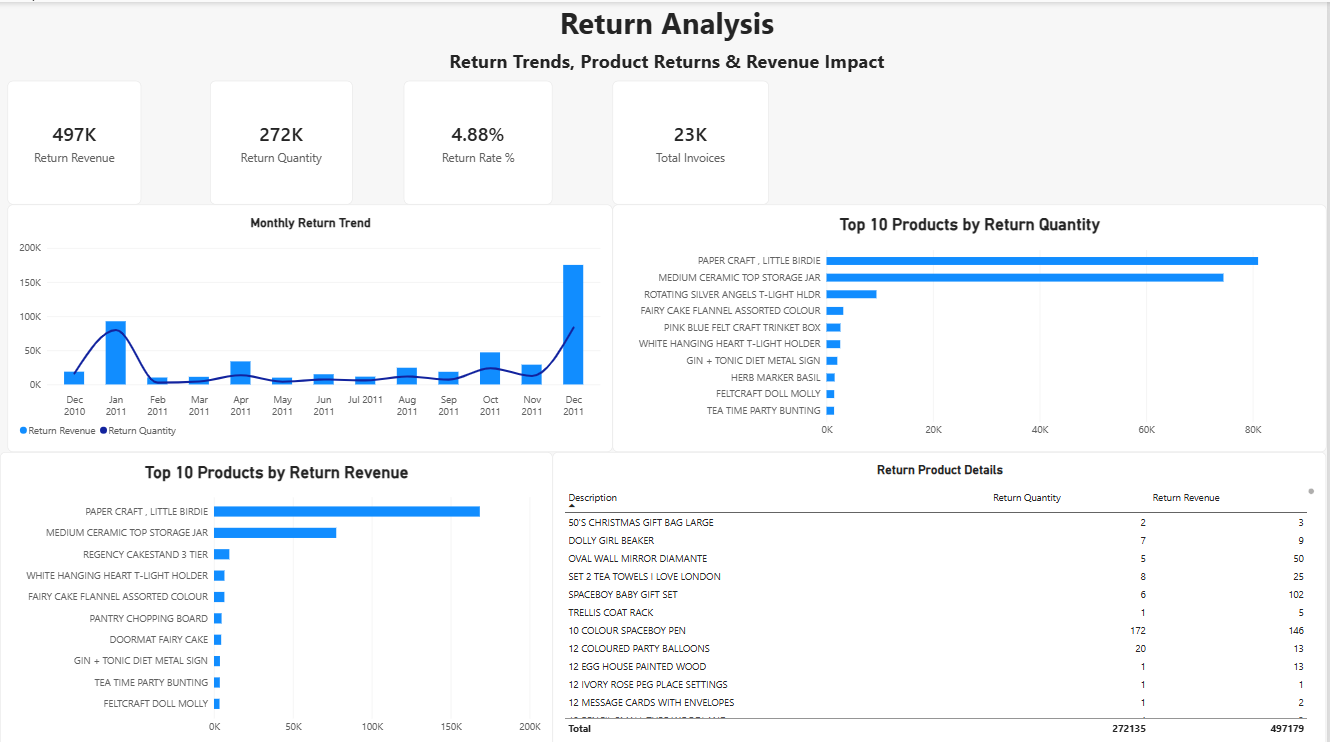

What the dashboard file says about the page in this screenshot:
{"tool":"powerbi","page":{"name":"Return Analysis","canvas":[1920,1080],"ordinal":4},"visuals":[{"type":"textbox","box":[10.9,0,1909.2,67],"z":0},{"type":"textbox","box":[10.9,67,1909.2,47.1],"z":1},{"type":"card","fields":{"Values":["sales_clean.Return Revenue"]},"box":[10.9,114,193.6,179.2],"z":2},{"type":"card","fields":{"Values":["sales_clean.Return Quantity"]},"box":[304,114,206.3,179.2],"z":3},{"type":"card","fields":{"Values":["sales_clean.Return Rate %"]},"box":[584.5,114,215.3,179.2],"z":4},{"type":"card","fields":{"Values":["sales_clean.Total Invoices"]},"box":[886.7,114,226.2,179.2],"z":5},{"type":"lineClusteredColumnComboChart","title":"Monthly Return Trend","fields":{"Category":["Date Table.Month Year"],"Y":["sales_clean.Return Revenue"],"Y2":["sales_clean.Return Quantity"]},"box":[10.9,293.2,875.9,358.3],"z":6},{"type":"clusteredBarChart","title":"Top 10 Products by Return Revenue","fields":{"Category":["sales_clean.Description"],"Y":["sales_clean.Return Revenue"]},"box":[0,651.5,799.9,428.9],"z":7},{"type":"clusteredBarChart","title":"Top 10 Products by Return Quantity","fields":{"Category":["sales_clean.Description"],"Y":["sales_clean.Return Quantity"]},"box":[886.7,293.2,1033.3,358.3],"z":8},{"type":"tableEx","title":"Return Product Details","fields":{"Values":["sales_clean.Description","sales_clean.Return Quantity","sales_clean.Return Revenue"]},"box":[799.9,651.5,1120.2,428.9],"z":9}]}

Visuals, with their boxes in screenshot pixels (x1, y1, x2, y2), scaled from the page's 1920x1080 canvas onto the 1330x742 screenshot:
textbox: locate(8, 0, 1329, 46)
textbox: locate(8, 46, 1329, 78)
card - sales_clean.Return Revenue: locate(8, 78, 142, 201)
card - sales_clean.Return Quantity: locate(211, 78, 353, 201)
card - sales_clean.Return Rate %: locate(405, 78, 554, 201)
card - sales_clean.Total Invoices: locate(614, 78, 771, 201)
"Monthly Return Trend" lineClusteredColumnComboChart: locate(8, 201, 614, 448)
"Top 10 Products by Return Revenue" clusteredBarChart: locate(0, 448, 554, 741)
"Top 10 Products by Return Quantity" clusteredBarChart: locate(614, 201, 1329, 448)
"Return Product Details" tableEx: locate(554, 448, 1329, 741)
